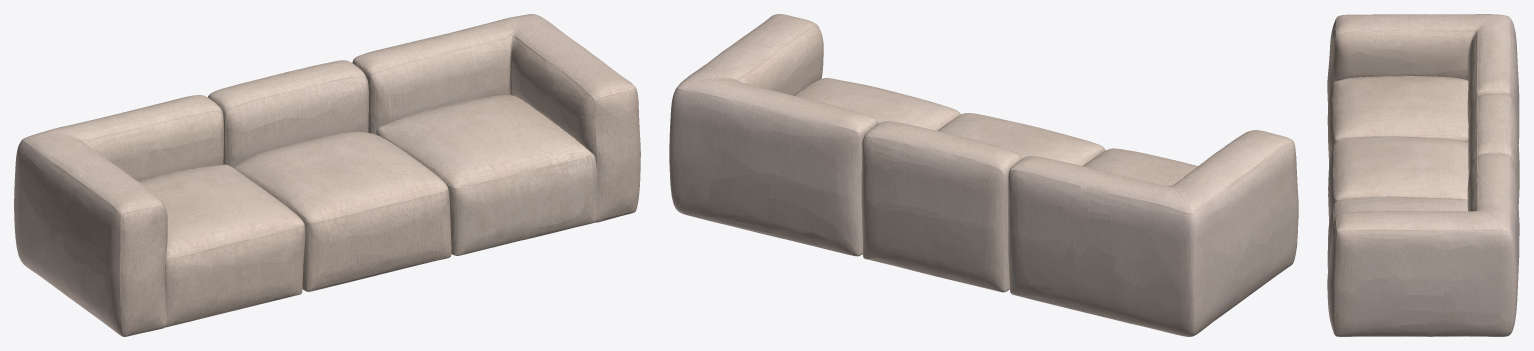
3 renders of one model, left to right at view 1: azimuth 30°, elevation 25°; view 2: azimuth 150°, elevation 25°; view 3: azimuth 270°, elevation 25°, orthographic. The views are drawn at different scales.
Parts seen in each view (by area): view 1: Mesh_0; view 2: Mesh_0; view 3: Mesh_0.
Part boxes in pixels (x1,y1,x2,y2): Mesh_0: (14,14,640,336); Mesh_0: (669,14,1298,336); Mesh_0: (1327,14,1519,336).
Size of the model in its own units: 1.9 by 0.4667 by 0.6933.
Materials: 1 (1 with a texture image).
